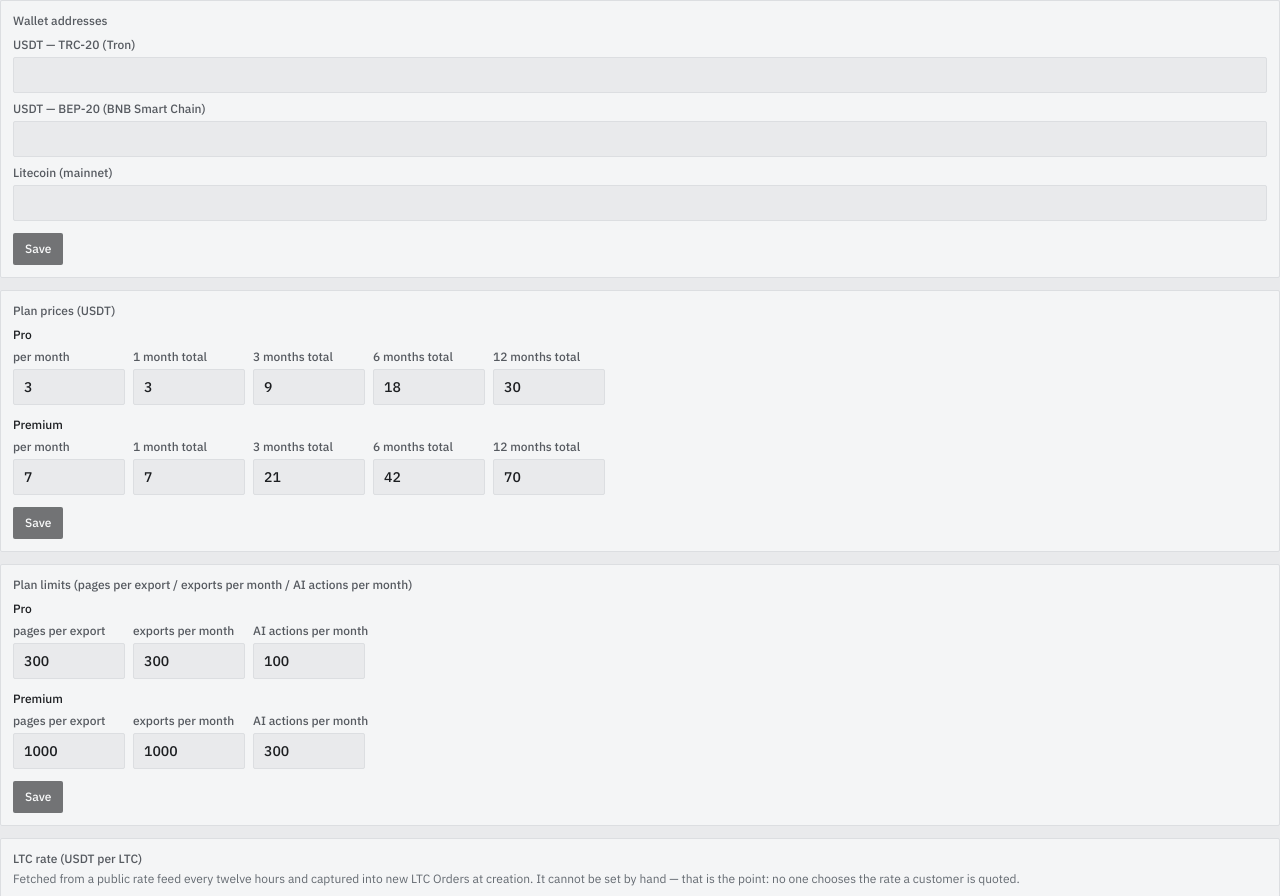
saves plan limits and the LTC rate to their own keys
Expected: the number field with test id "limit-pro-pageCap" is shown, [13,643,125,679]
Replace the text in the number field with test id "limit-pro-quotaMonthly" with "350" at (189, 661), box [133,643,245,679]
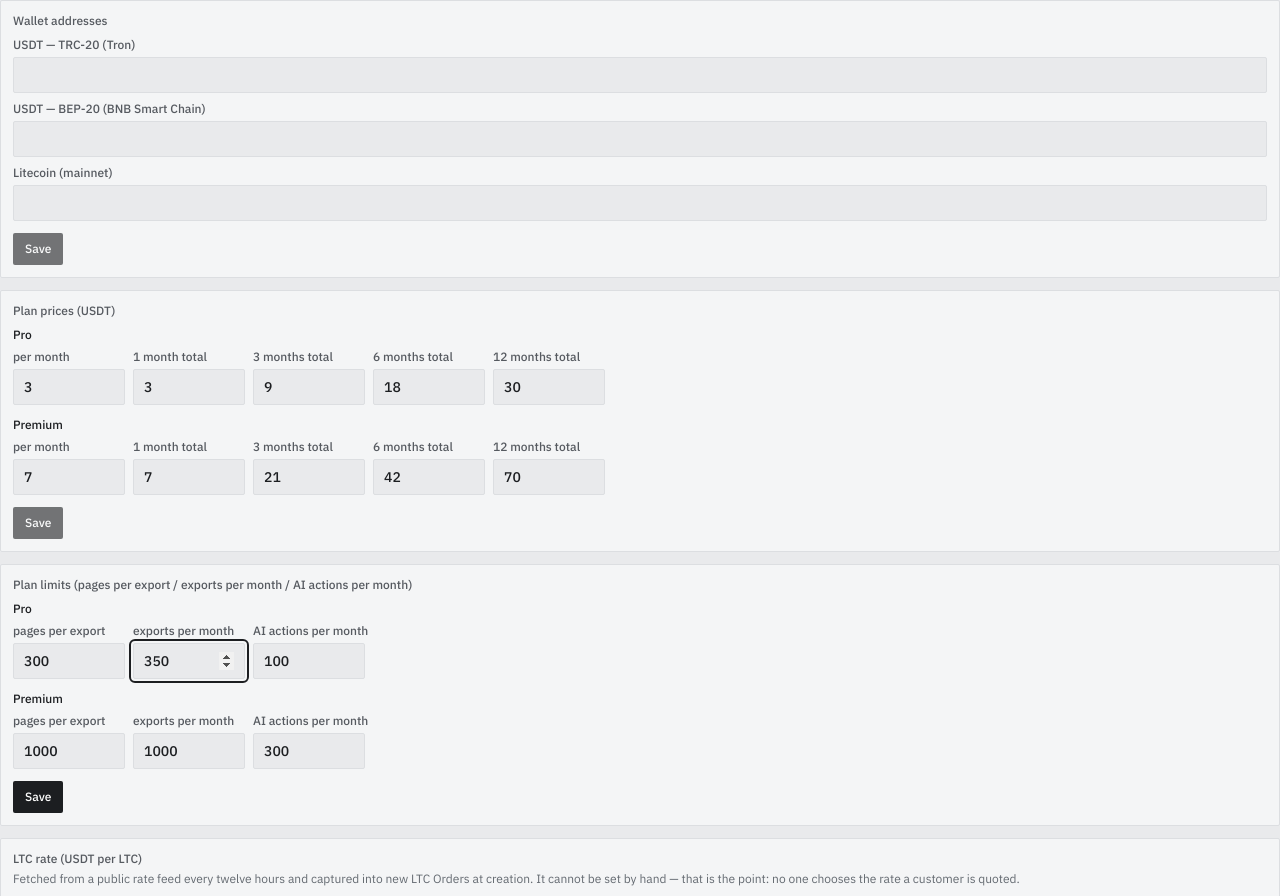
Replace the text in the number field with test id "limit-premium-aiActionsMonthly" with "0" at (309, 751), box [253,733,365,769]
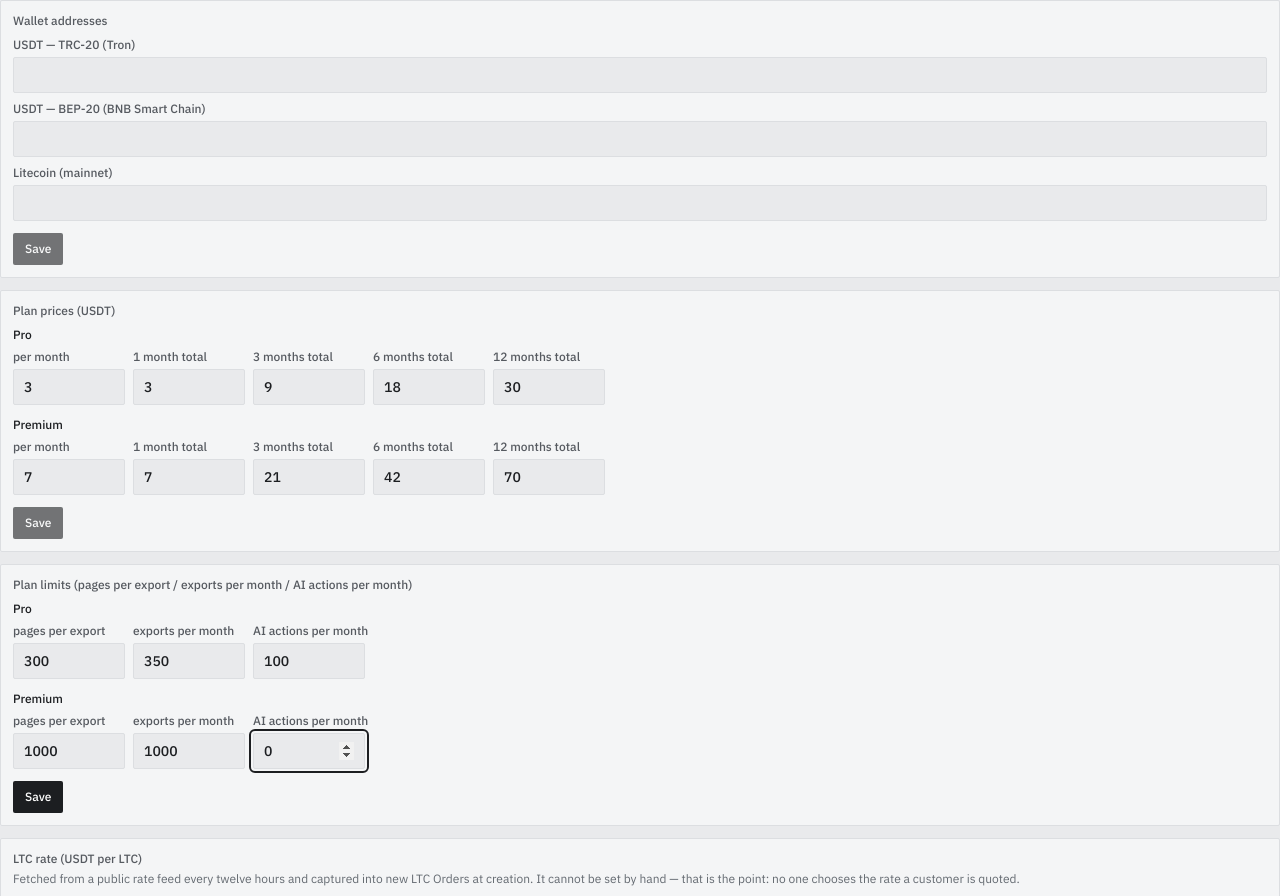
Click the button with test id "limits-save" at (38, 797), box [13,781,63,813]
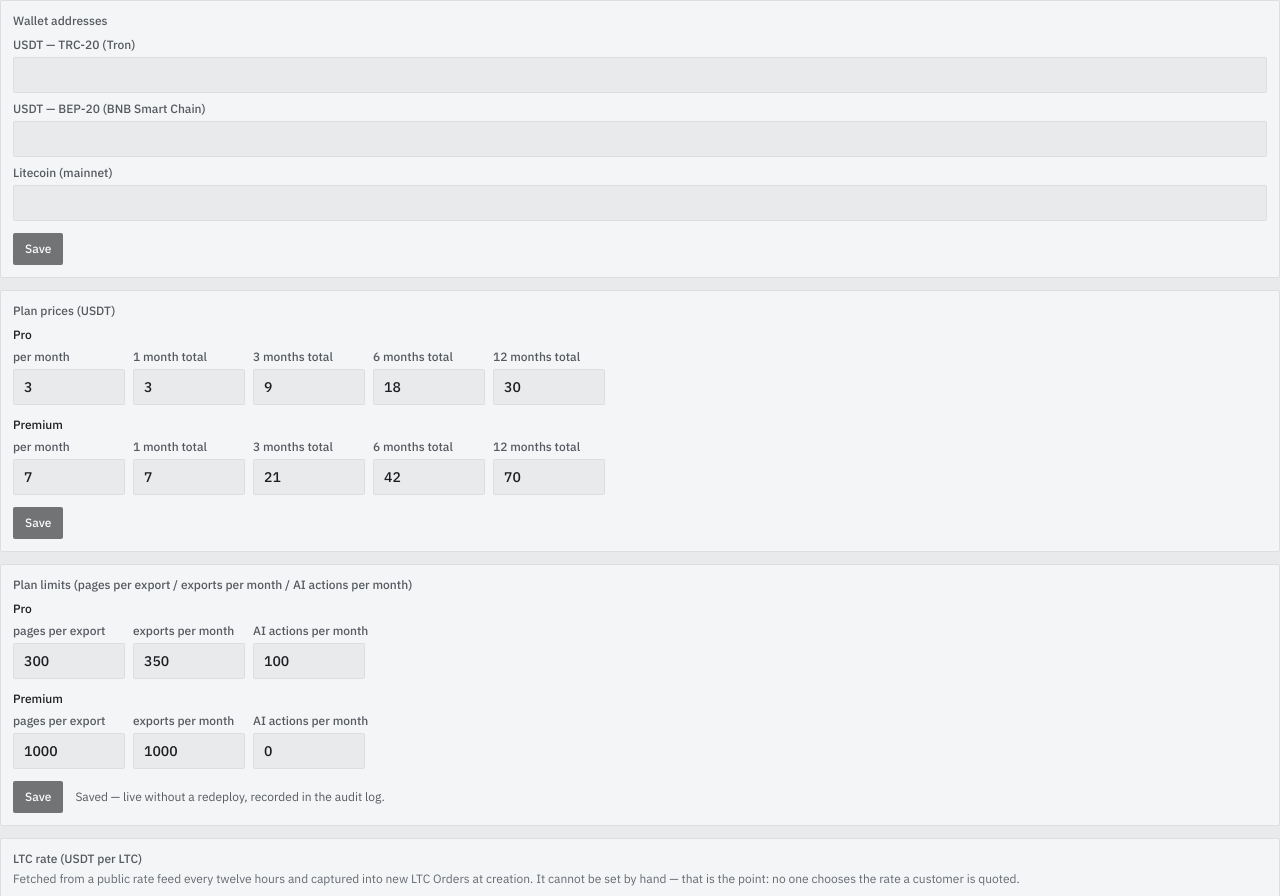
Now the message "Saved — live without a redeploy, recorded in the audit log." is shown, box [75,789,385,805]
